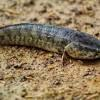Snakehead: (0, 19, 100, 64)
